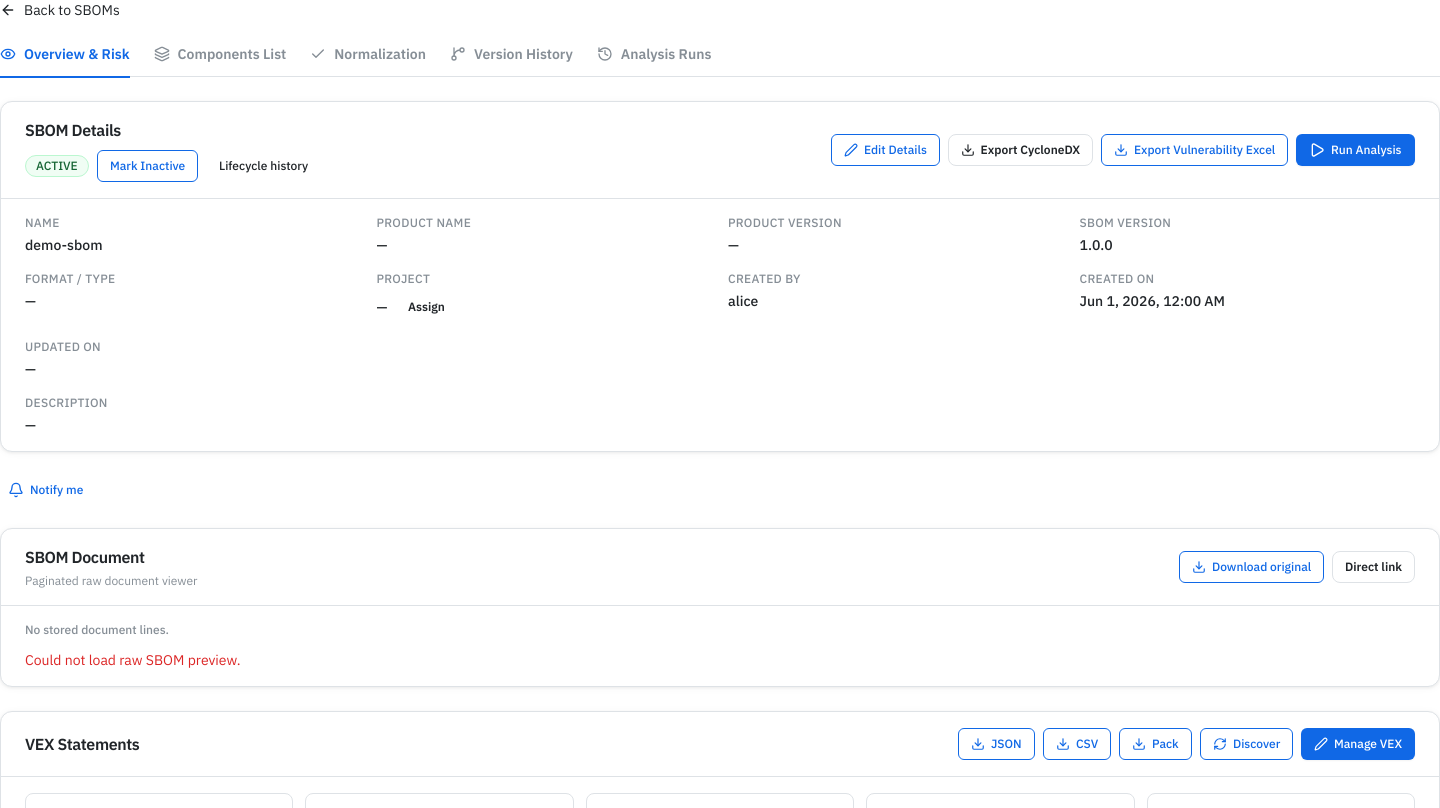
Test: SbomDetail lifecycle management › renders lifecycle details, refresh actions, and manual override form fields
Check: the heading "VEX Statements" is shown, box [25,732,139,756]
Step 1. Click the button "Components List" → [220, 61], box [154,44,286,78]
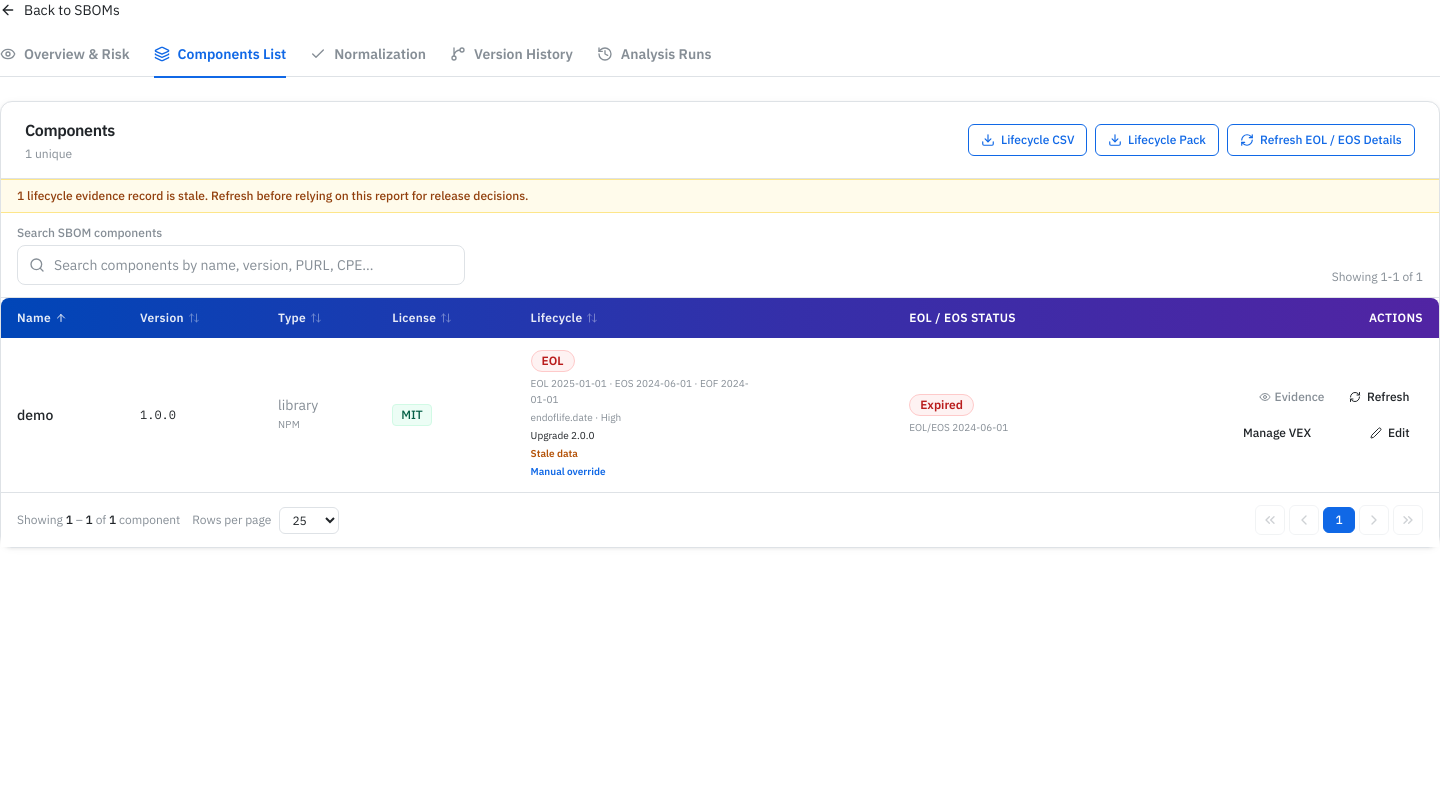
Check: the column heading "EOL / EOS Status" is shown, box [893,298,1102,338]
Check: the text "npm" is shown, box [278,418,300,431]
Check: the text "EOL" is shown, box [531,350,575,372]
Step 2. Click the button "Refresh EOL / EOS Details" → [1321, 140], box [1227,124,1415,156]
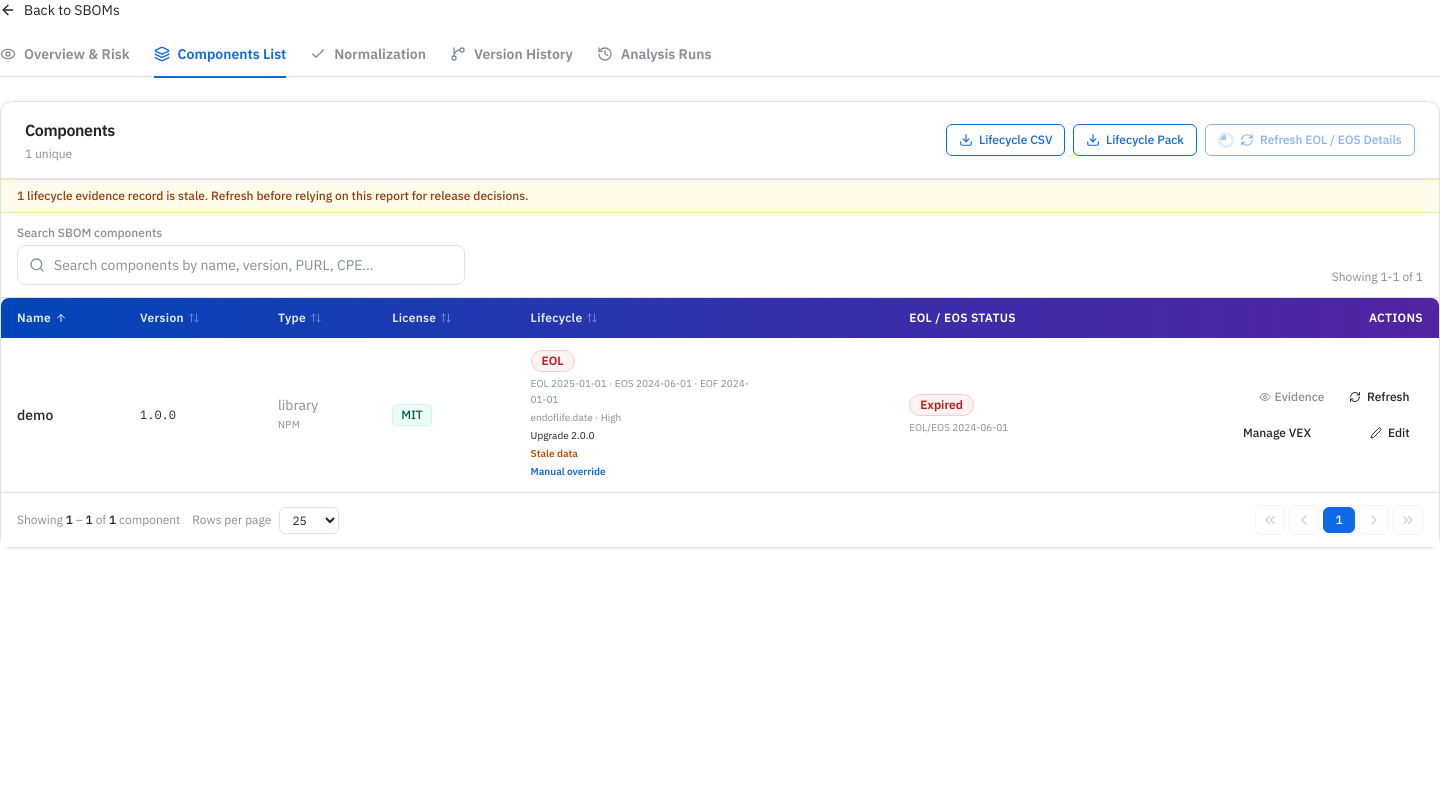
Step 3. Click the button "Refresh" → [1380, 397], box [1336,381,1423,413]
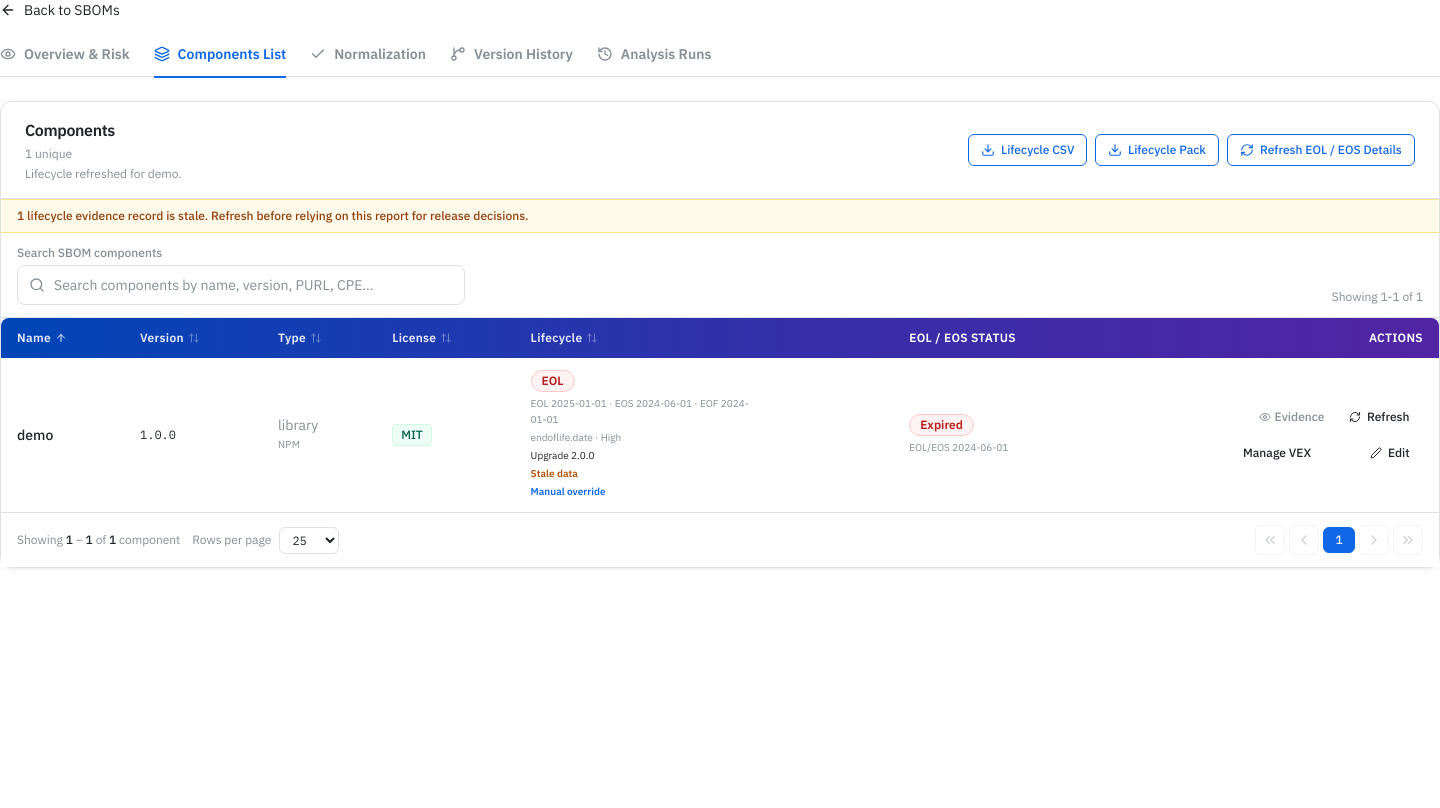
Step 4. Click the button "Edit" → [1390, 453], box [1357,437,1423,469]
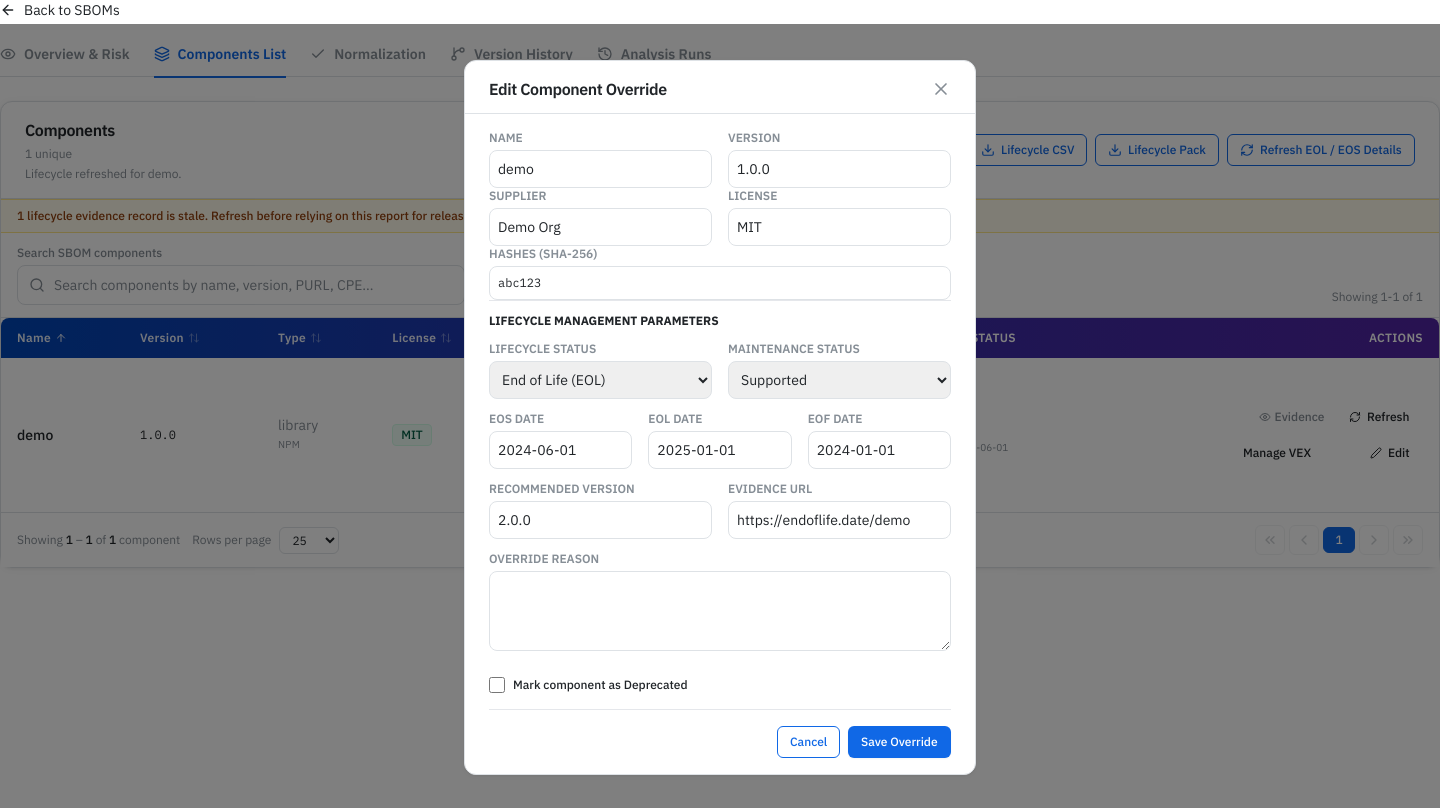
Check: the heading "Lifecycle Management Parameters" is shown, box [489,312,719,328]
Check: the text "Lifecycle Status" is shown, box [489,340,596,356]
Check: the text "Recommended Version" is shown, box [489,480,635,496]
